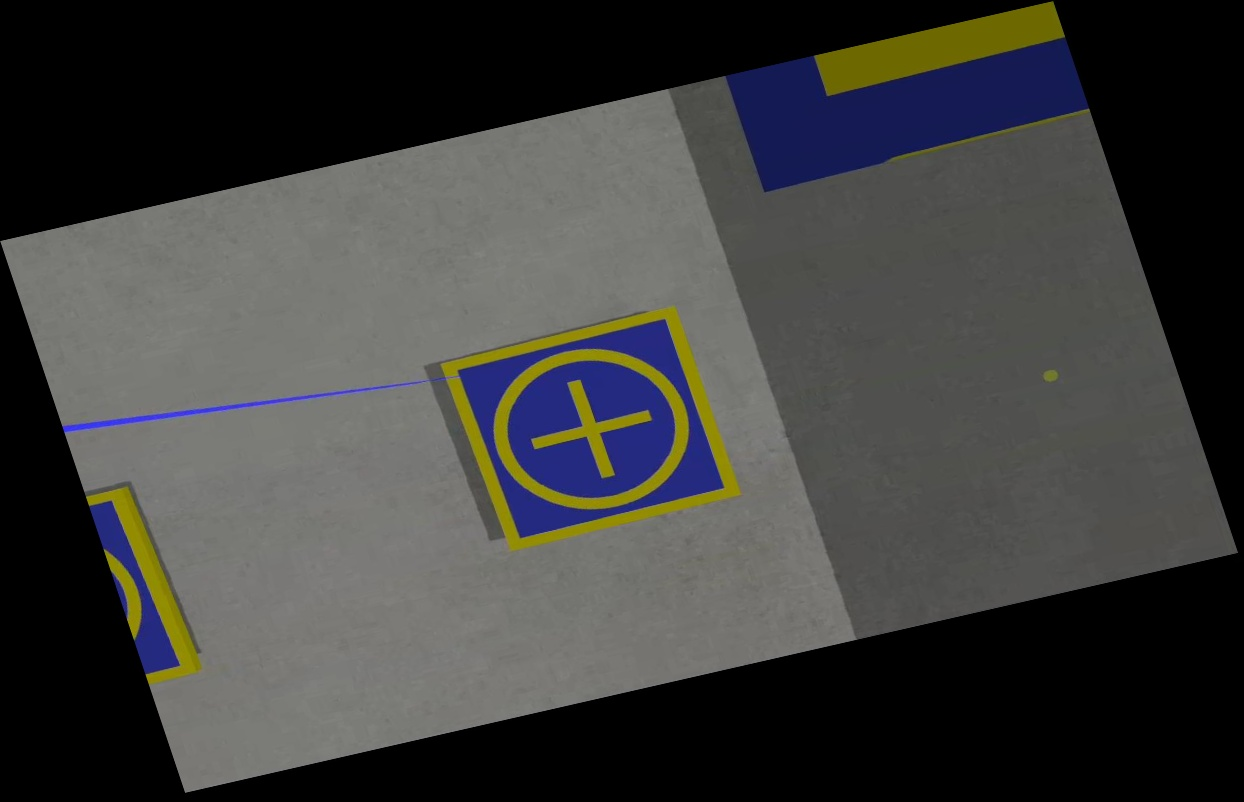large_base: (725, 0, 1094, 192)
small_base: (434, 302, 746, 553), (84, 476, 207, 688)
